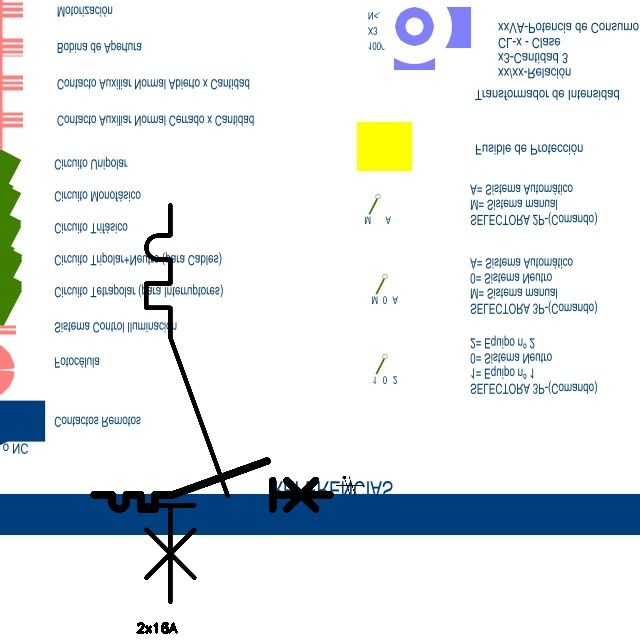interruptor_termomagnetico: (136, 195, 238, 612), (88, 455, 335, 515)
